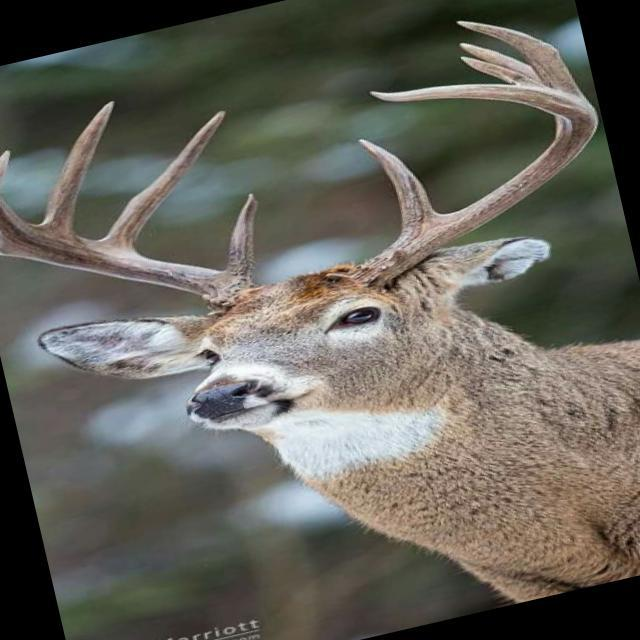L-F: (351, 83, 600, 285)
L-G1: (356, 137, 444, 244)
R-F: (0, 197, 248, 305)
R-G1: (225, 192, 260, 278)
R-G2: (90, 109, 228, 248)
R-G3: (35, 99, 117, 232)
